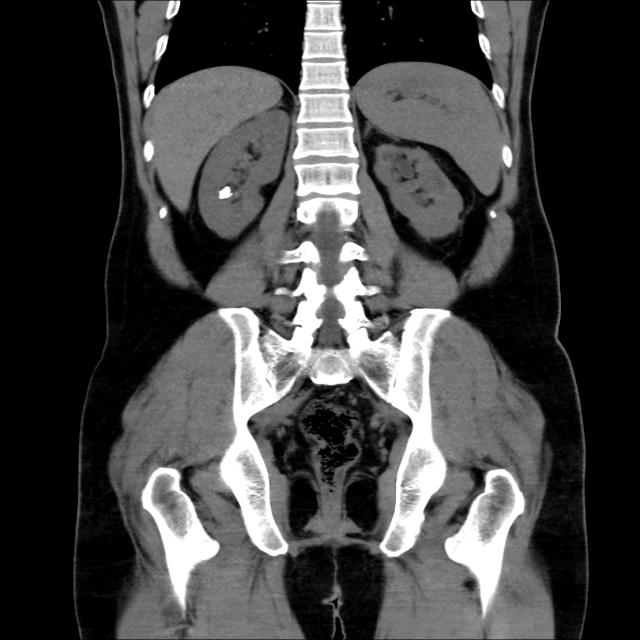kidneystone: (218, 186, 233, 200)
